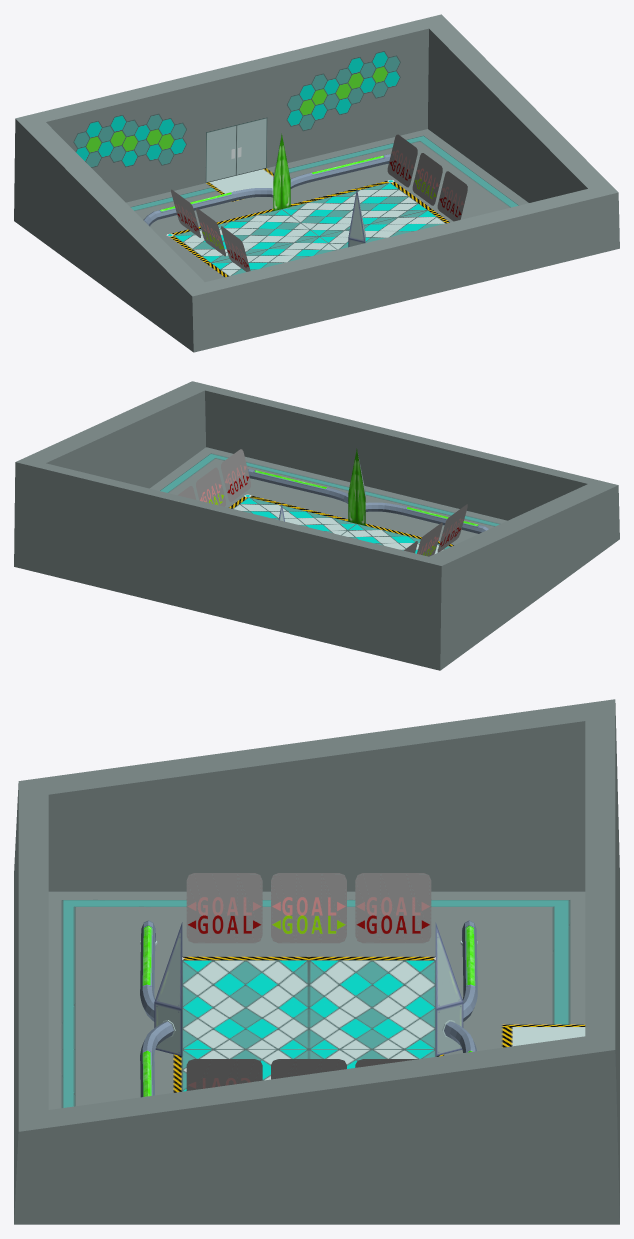
File: teleport_level_base.fbx
3 views of the same model, one above another, from view 1: azimuth 30°, elevation 25°; view 2: azimuth 150°, elevation 25°; view 3: azimuth 270°, elevation 25° (orthographic). The views are drawn at different scales.
Visible parts, largest first — view 1: teleport_walls, teleport_floor, teleport_power_cable, teleport_goal_screen, teleport_goal_screen001, teleport_goal_screen002, teleport_goal_screen004, teleport_goal_screen005, teleport_goal_screen003; view 2: teleport_walls, teleport_floor, teleport_power_cable, teleport_goal_screen002, teleport_goal_screen001, teleport_goal_screen003, teleport_goal_screen004; view 3: teleport_walls, teleport_floor, teleport_goal_screen003, teleport_goal_screen005, teleport_goal_screen004, teleport_power_cable, teleport_goal_screen002, teleport_goal_screen001.
Boxes of the visible parts, x1=… form: teleport_walls: x1=14, y1=14, x2=619, y2=352; teleport_floor: x1=150, y1=133, x2=479, y2=281; teleport_power_cable: x1=143, y1=154, x2=390, y2=226; teleport_goal_screen: x1=387, y1=134, x2=417, y2=187; teleport_goal_screen001: x1=412, y1=153, x2=442, y2=205; teleport_goal_screen002: x1=437, y1=171, x2=467, y2=221; teleport_goal_screen004: x1=196, y1=208, x2=225, y2=256; teleport_goal_screen005: x1=171, y1=189, x2=200, y2=237; teleport_goal_screen003: x1=221, y1=226, x2=250, y2=271; teleport_walls: x1=14, y1=381, x2=619, y2=670; teleport_floor: x1=198, y1=448, x2=474, y2=553; teleport_power_cable: x1=248, y1=469, x2=488, y2=533; teleport_goal_screen002: x1=221, y1=449, x2=250, y2=501; teleport_goal_screen001: x1=196, y1=467, x2=225, y2=506; teleport_goal_screen003: x1=437, y1=504, x2=467, y2=552; teleport_goal_screen004: x1=417, y1=522, x2=442, y2=556; teleport_walls: x1=14, y1=699, x2=619, y2=1224; teleport_floor: x1=123, y1=922, x2=494, y2=1099; teleport_goal_screen003: x1=186, y1=873, x2=262, y2=943; teleport_goal_screen005: x1=355, y1=873, x2=431, y2=943; teleport_goal_screen004: x1=271, y1=873, x2=346, y2=943; teleport_power_cable: x1=140, y1=920, x2=477, y2=1097; teleport_goal_screen002: x1=186, y1=1059, x2=262, y2=1090; teleport_goal_screen001: x1=271, y1=1059, x2=346, y2=1079.
Bounding box in the file's own units: 1967 × 460 × 1436.
